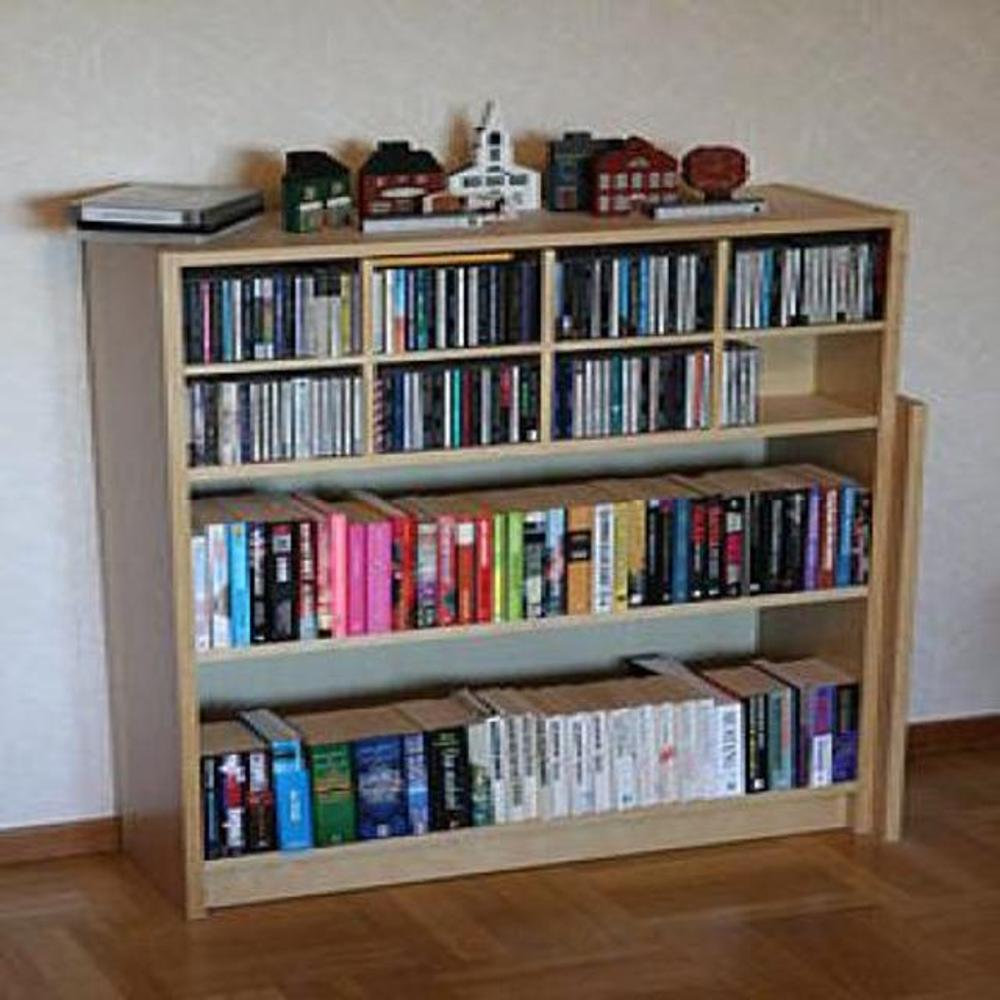lamp: (81, 177, 919, 931)
